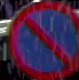No Stopping: (6, 0, 78, 79)
